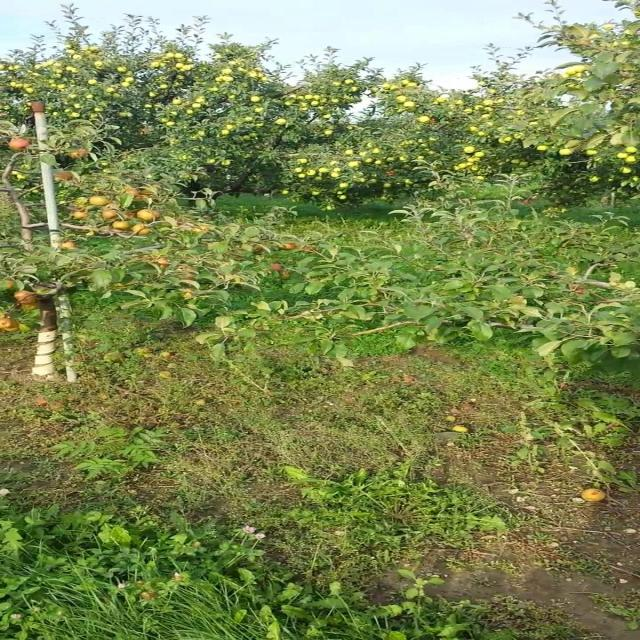apple: (13, 292, 36, 301), (92, 196, 110, 207), (13, 140, 28, 151), (20, 304, 41, 311), (113, 224, 130, 232), (134, 228, 151, 236), (70, 152, 87, 160), (56, 172, 73, 180), (8, 320, 21, 330), (141, 212, 156, 220), (284, 244, 299, 251), (575, 288, 588, 296), (106, 212, 119, 219), (184, 292, 194, 300), (77, 212, 87, 219), (63, 244, 78, 248), (127, 212, 135, 219), (276, 264, 284, 271), (163, 260, 171, 267), (284, 272, 292, 279), (127, 192, 140, 196), (255, 248, 265, 252), (525, 200, 533, 204)
